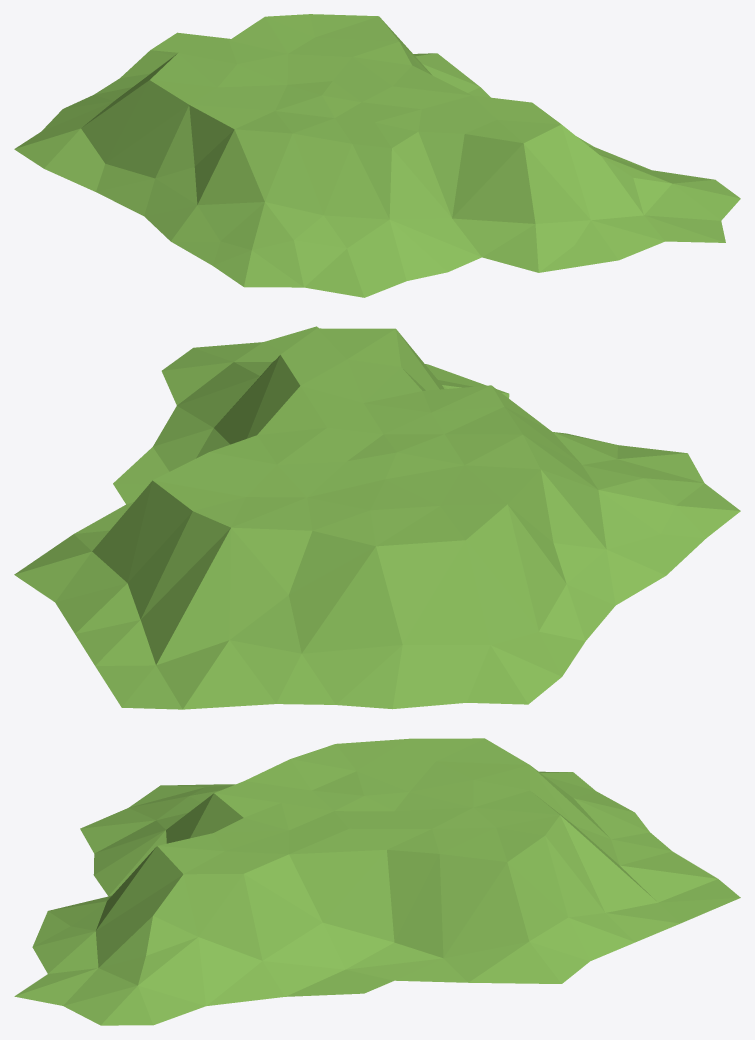
Rendered from MT_Mountain_M_b_22.fbx.
3 renders of one model, top to bottom at view 1: azimuth 30°, elevation 25°; view 2: azimuth 150°, elevation 25°; view 3: azimuth 270°, elevation 25°, orthographic. The views are drawn at different scales.
Visible parts, largest first — view 1: MT_Mountain_M_b_22; view 2: MT_Mountain_M_b_22; view 3: MT_Mountain_M_b_22.
Part boxes in pixels (x1,y1,x2,y2): MT_Mountain_M_b_22: [14, 14, 740, 297]; MT_Mountain_M_b_22: [14, 326, 740, 709]; MT_Mountain_M_b_22: [14, 738, 740, 1025].
Size of the model in its own units: 3073 by 499 by 3770.
